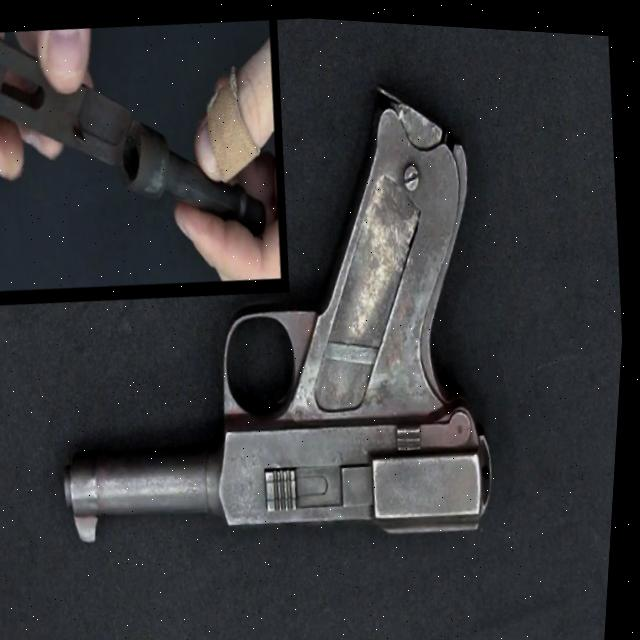pistol: (26, 53, 521, 563)
